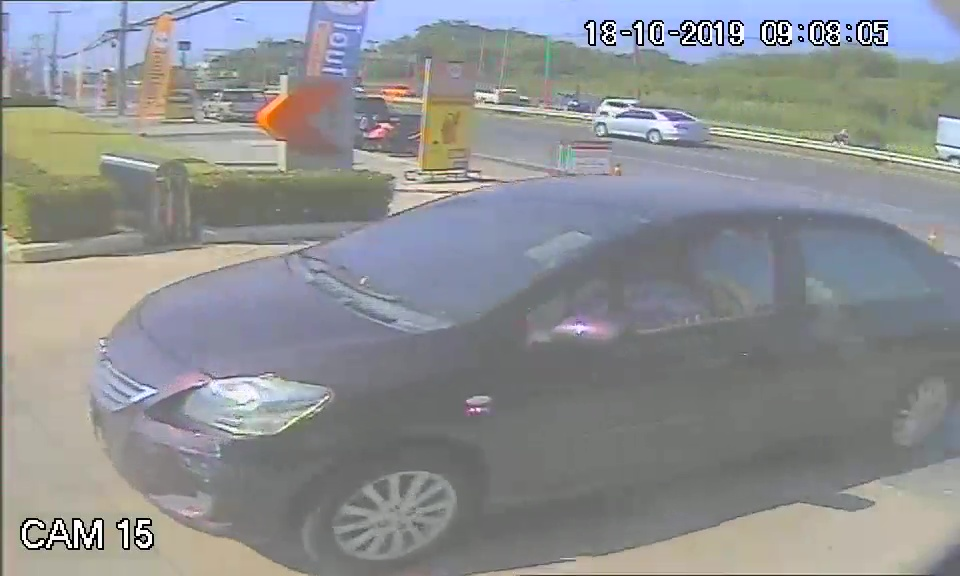sedan: (81, 172, 893, 556)
